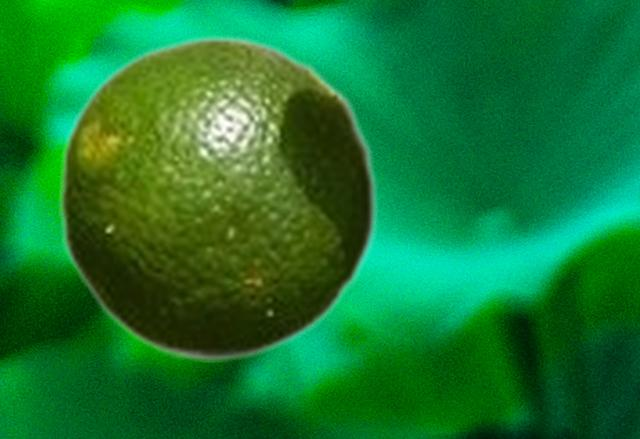calamansi: (56, 34, 379, 361)
